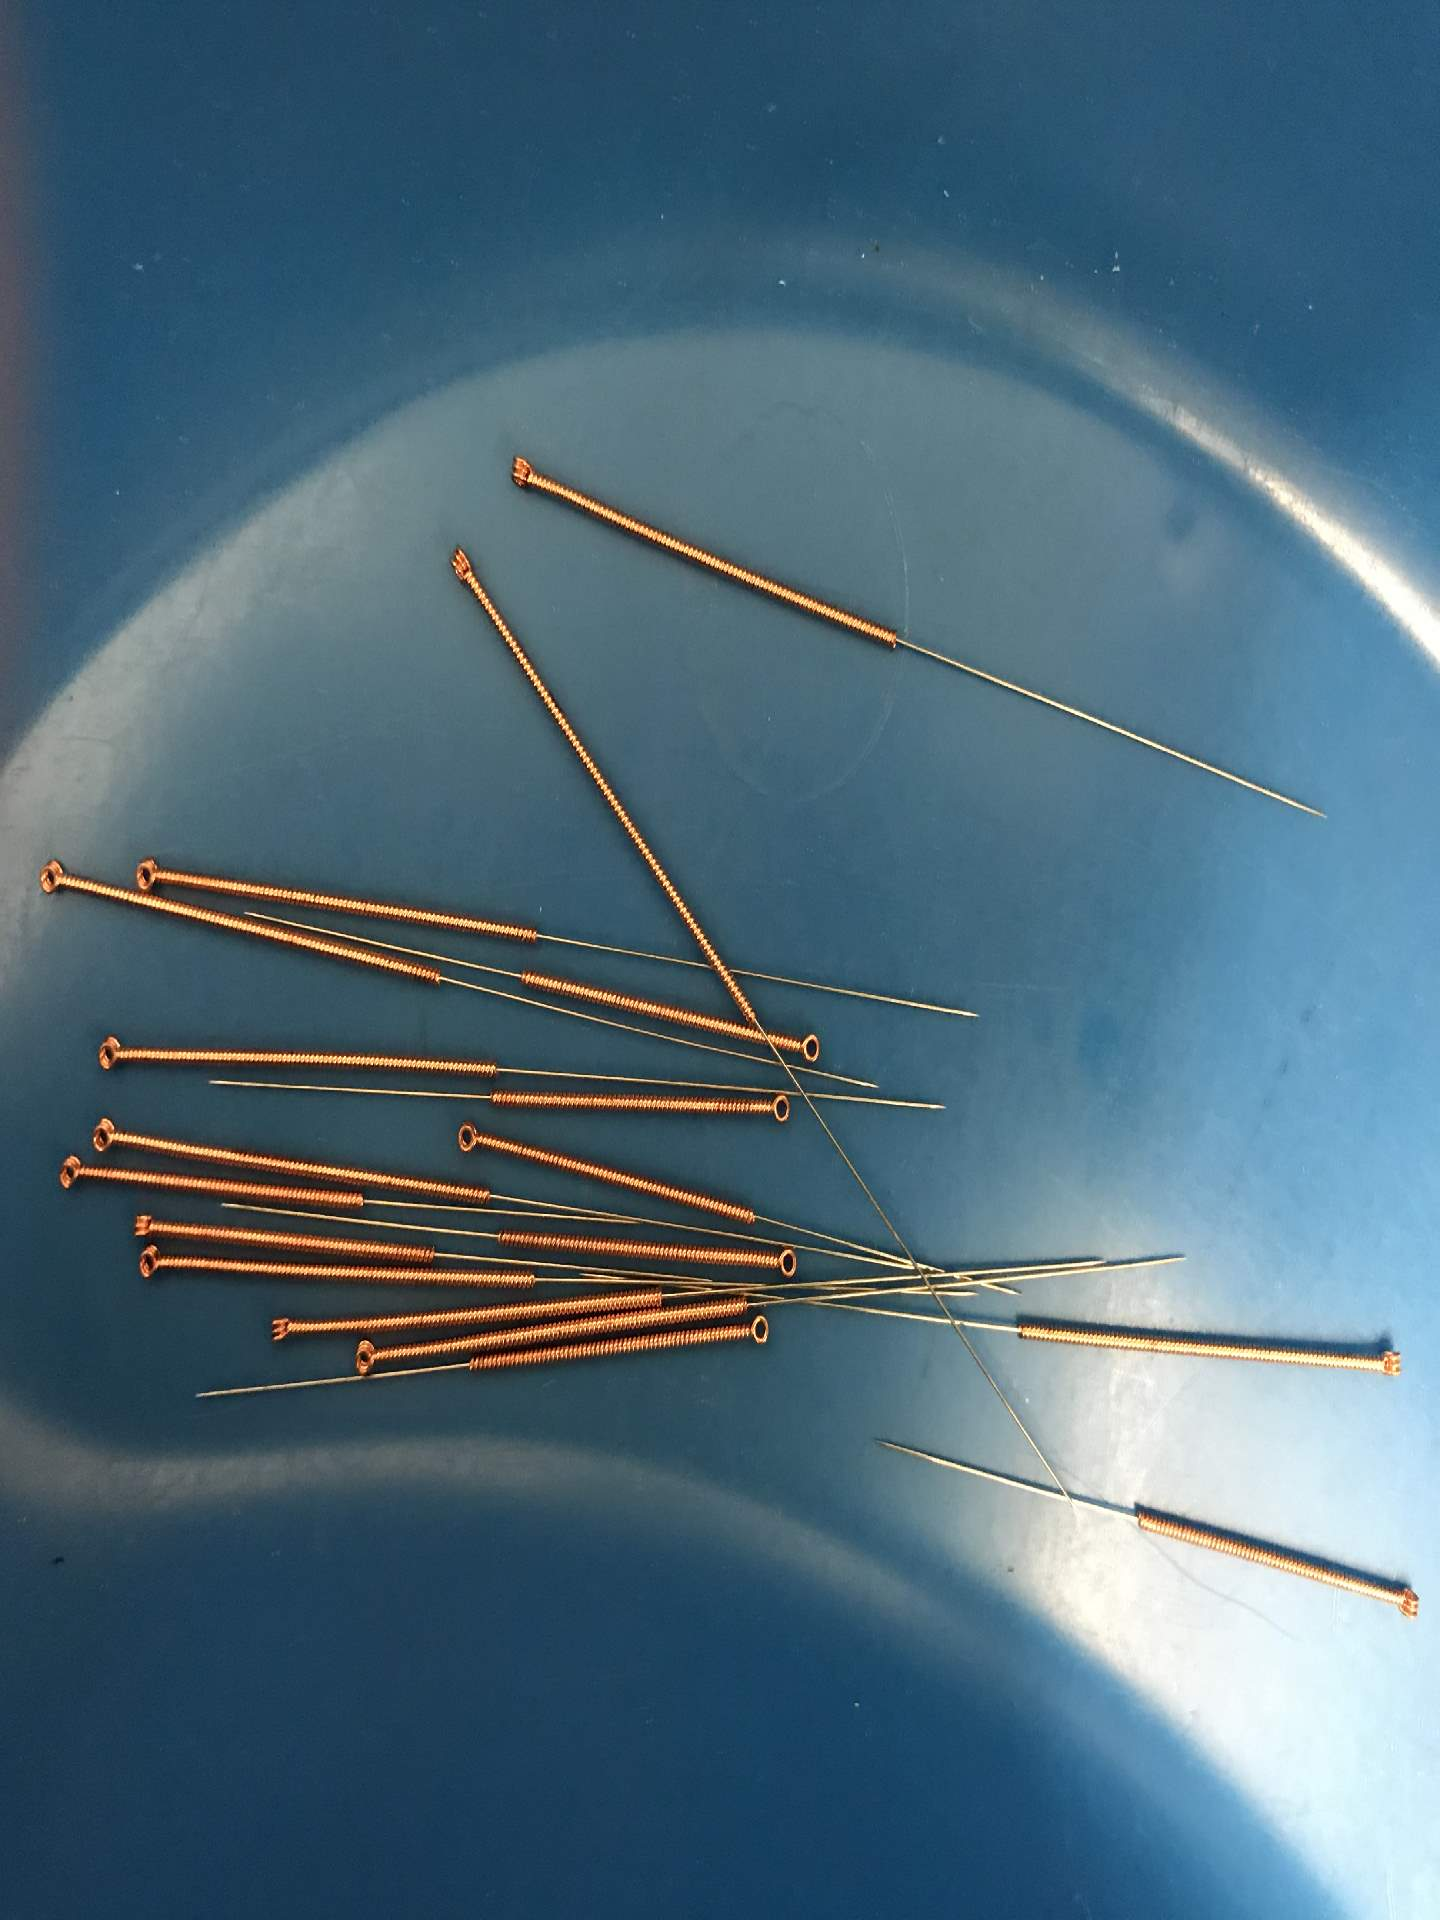needle: (436, 537, 486, 596), (85, 1025, 136, 1081), (498, 446, 545, 499), (29, 853, 76, 906), (446, 1114, 493, 1164), (82, 1113, 129, 1161), (126, 1240, 172, 1288), (784, 1023, 830, 1070), (45, 1149, 92, 1194), (753, 1085, 799, 1132), (129, 850, 172, 898), (1366, 1338, 1410, 1386), (260, 1306, 306, 1352), (343, 1335, 389, 1380), (1383, 1575, 1425, 1624), (735, 1309, 777, 1355), (762, 1241, 806, 1284), (123, 1202, 165, 1243)
